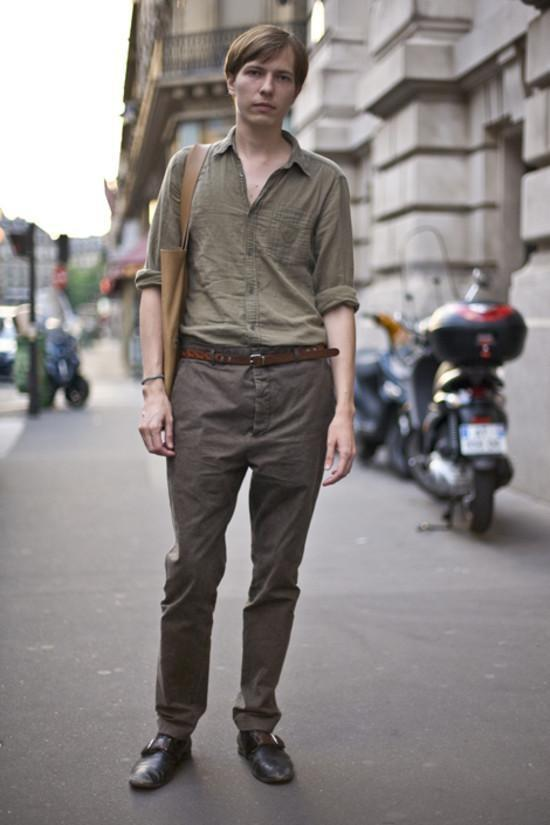pants: (154, 340, 334, 738)
shirt: (142, 123, 358, 349)
